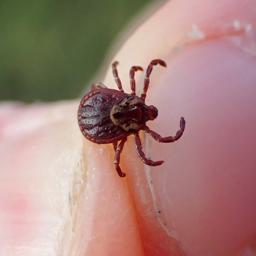Dermacentor variabilis: (77, 60, 185, 178)
